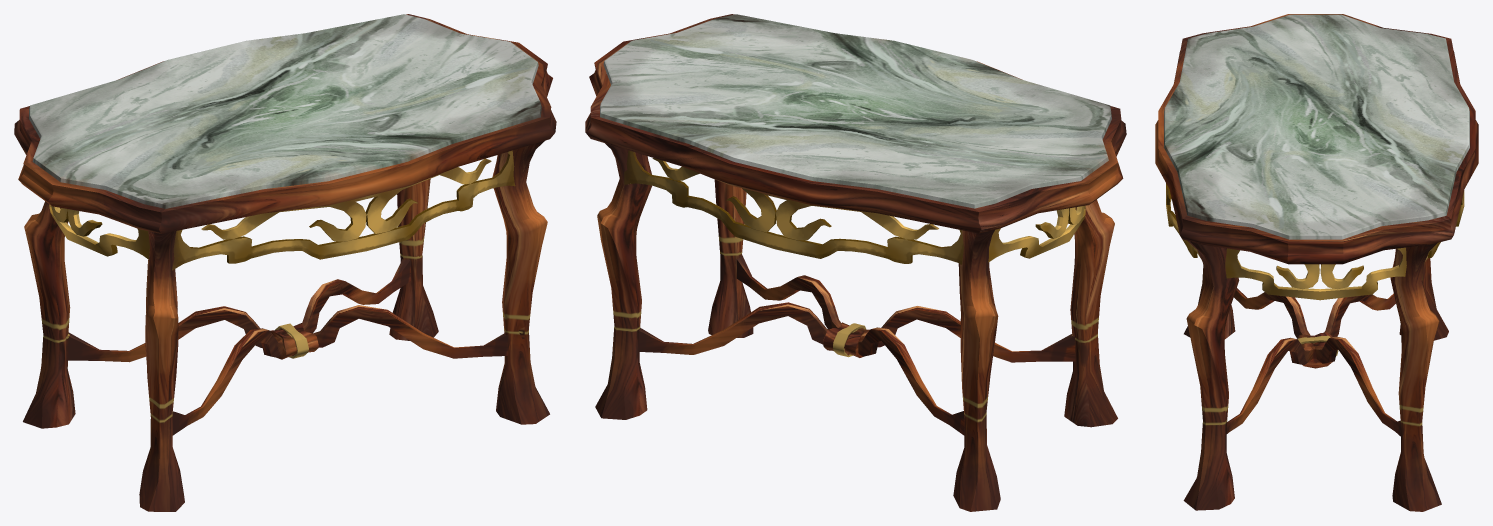
Rendered from test_table.fbx.
3 renders of one model, left to right at view 1: azimuth 30°, elevation 25°; view 2: azimuth 150°, elevation 25°; view 3: azimuth 270°, elevation 25°, orthographic. The views are drawn at different scales.
Parts seen in each view (by area): view 1: table2; view 2: table2; view 3: table2.
Boxes of the visible parts, bbox=[...] form: table2: bbox=[14, 14, 556, 511]; table2: bbox=[585, 14, 1126, 511]; table2: bbox=[1155, 14, 1478, 511].
Bounding box in the file's own units: 80.93 × 47.14 × 47.22.
Materials: 1 (1 with a texture image).
